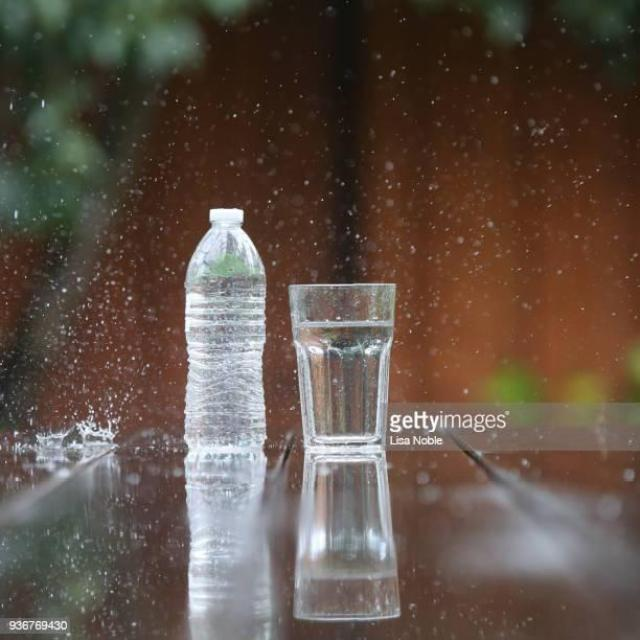bottle: (180, 201, 272, 458)
